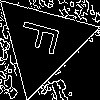F: (17, 17, 70, 59)
